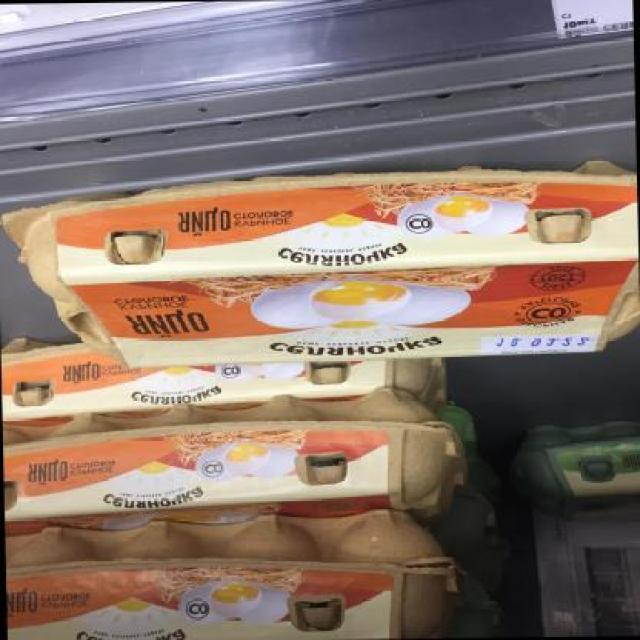Egg: (12, 161, 640, 371), (2, 402, 468, 530), (5, 512, 471, 640), (2, 337, 445, 418), (512, 410, 640, 529)
